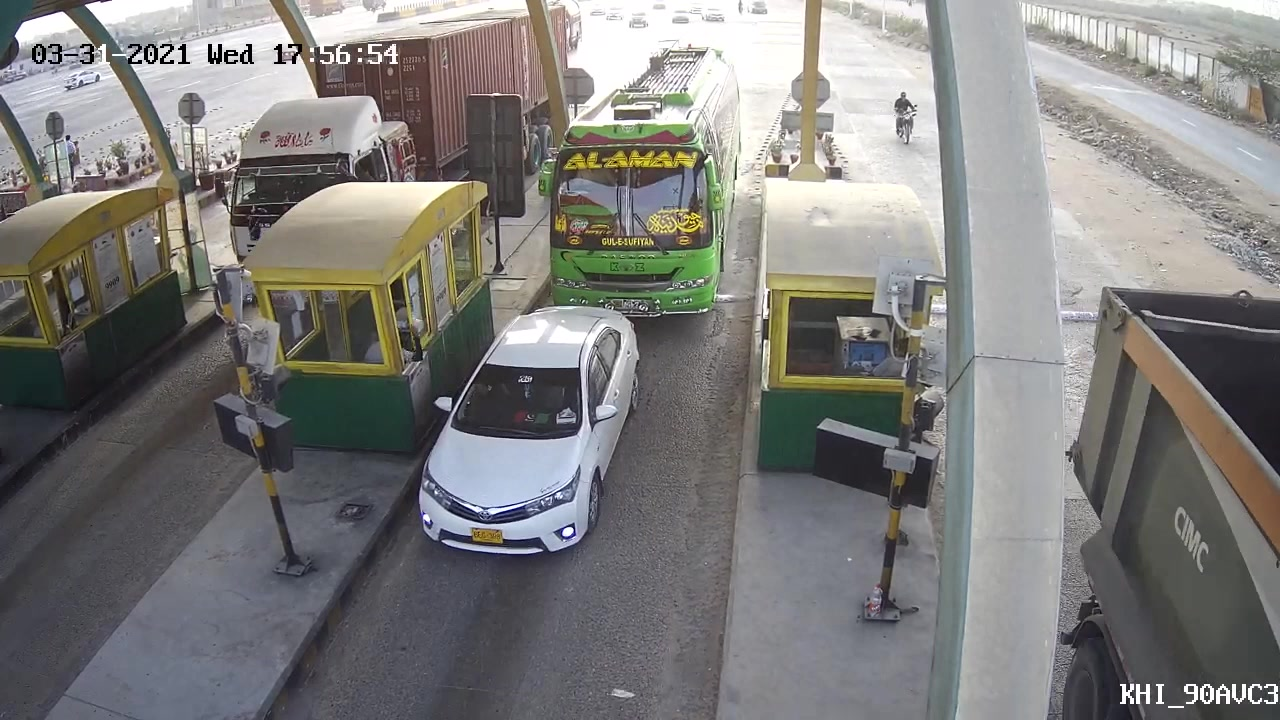F1: (405, 302, 654, 558)
F4: (536, 26, 748, 326)
